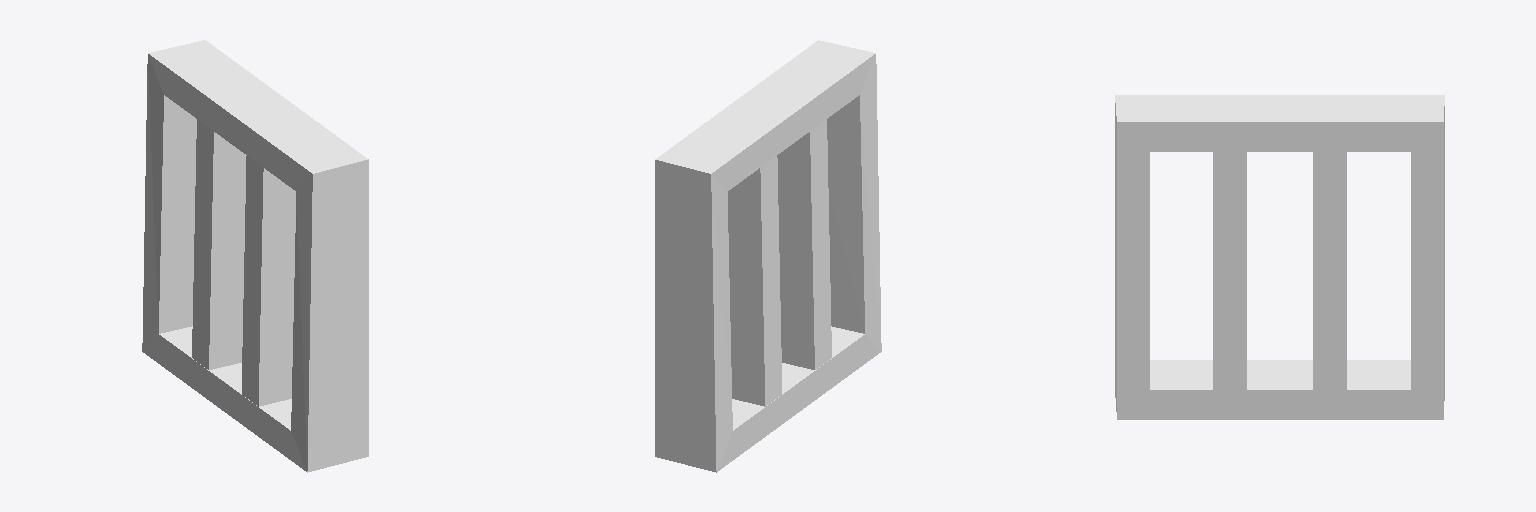
The model's file is filter_cutout.obj.
3 views of the same model, side by side, from view 1: azimuth 30°, elevation 25°; view 2: azimuth 150°, elevation 25°; view 3: azimuth 270°, elevation 25° (orthographic).
Parts seen in each view (by area): view 1: Cube.003; view 2: Cube.003; view 3: Cube.003.
Boxes of the visible parts, <box> form: Cube.003: <box>142,40,368,472</box>; Cube.003: <box>655,40,881,472</box>; Cube.003: <box>1115,95,1444,419</box>.
Bounding box in the file's own units: 0.1368 × 0.625 × 0.6291.